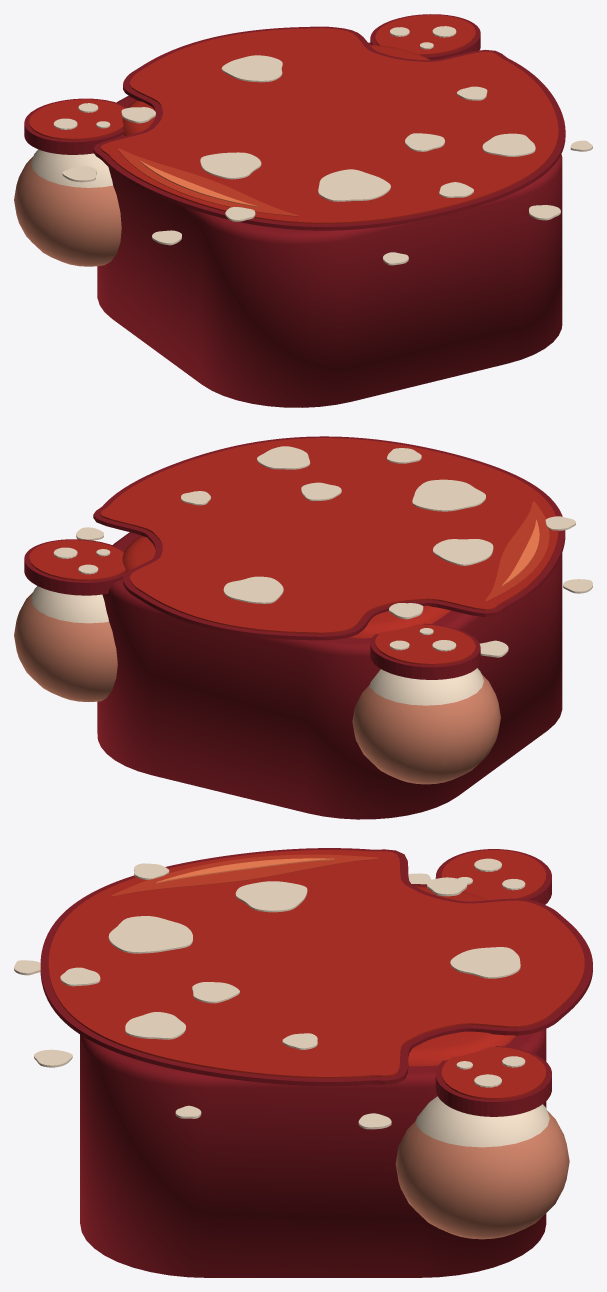
The model's file is body_cogumelo.fbx.
The picture shows the model from 3 angles, top to bottom: view 1: azimuth 30°, elevation 25°; view 2: azimuth 150°, elevation 25°; view 3: azimuth 270°, elevation 25°; orthographic projection. The views are drawn at different scales.
Visible parts, largest first — view 1: body_cogumelo_corpo, body_cogumelo_mao_esq, body_cogumelo_mao; view 2: body_cogumelo_corpo, body_cogumelo_mao_esq, body_cogumelo_mao; view 3: body_cogumelo_corpo, body_cogumelo_mao, body_cogumelo_mao_esq.
Boxes of the visible parts, bbox=[...] form: body_cogumelo_corpo: bbox=[62, 26, 592, 407]; body_cogumelo_mao_esq: bbox=[14, 98, 127, 266]; body_cogumelo_mao: bbox=[370, 14, 480, 59]; body_cogumelo_corpo: bbox=[76, 436, 592, 819]; body_cogumelo_mao_esq: bbox=[352, 623, 500, 784]; body_cogumelo_mao: bbox=[14, 539, 126, 701]; body_cogumelo_corpo: bbox=[14, 848, 592, 1277]; body_cogumelo_mao: bbox=[395, 1046, 569, 1239]; body_cogumelo_mao_esq: bbox=[435, 849, 551, 904].
Bounding box in the file's own units: 5.4 × 2.06 × 4.97.
1 material, 1 textured.
